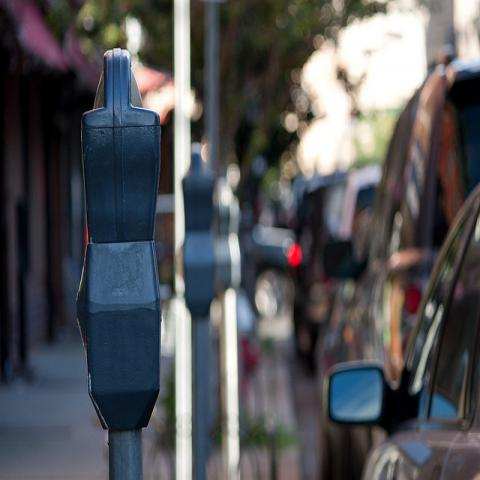car: (312, 54, 479, 473), (324, 174, 479, 479), (290, 170, 347, 344), (240, 222, 297, 322)
